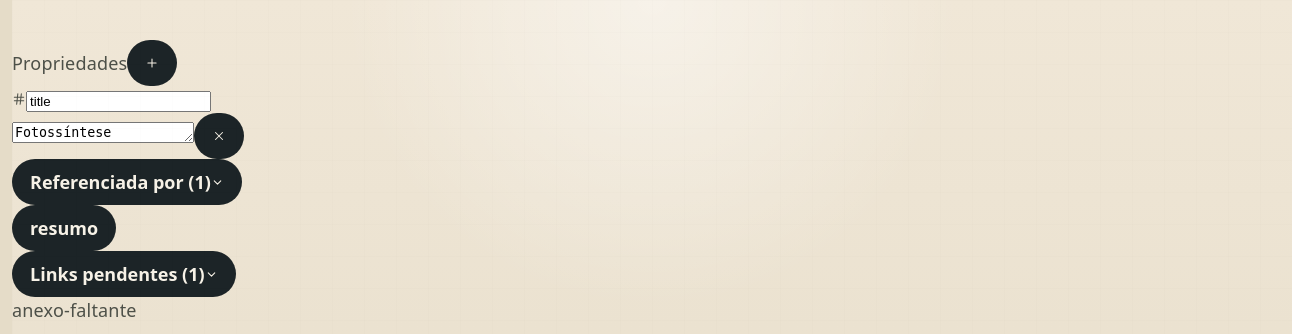
Scenario: FrontmatterPanelForm (painel integrado de propriedades) › acordeons de links recolhem e expandem o conteudo
Click the button "Referenciada por (1)": coordinates (127, 182) [12,159,242,205]
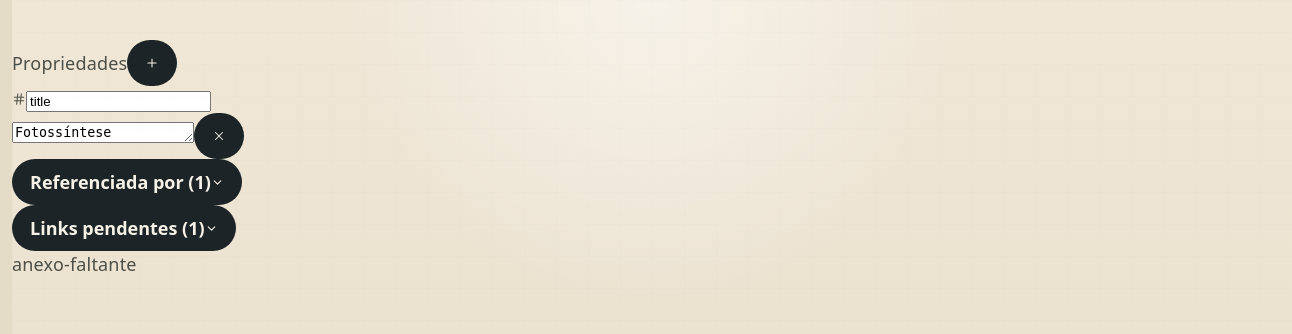
Result: the button "resumo" is gone
Click the button "Links pendentes (1)": coordinates (124, 228) [12,205,236,251]
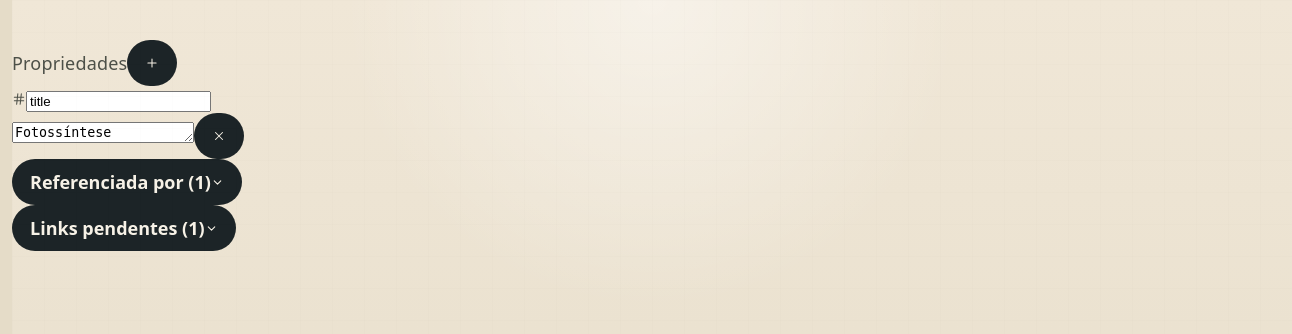
Result: the text "anexo-faltante" is gone
Click the button "Links pendentes (1)": coordinates (124, 228) [12,205,236,251]
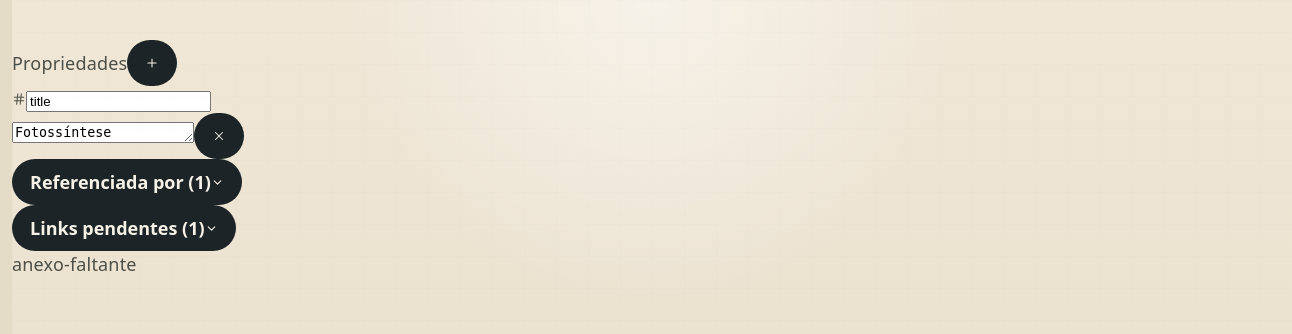
Result: the text "anexo-faltante" is shown at [12,252,137,276]
